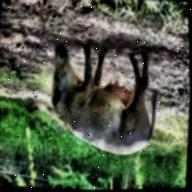boar: (45, 40, 162, 160)
